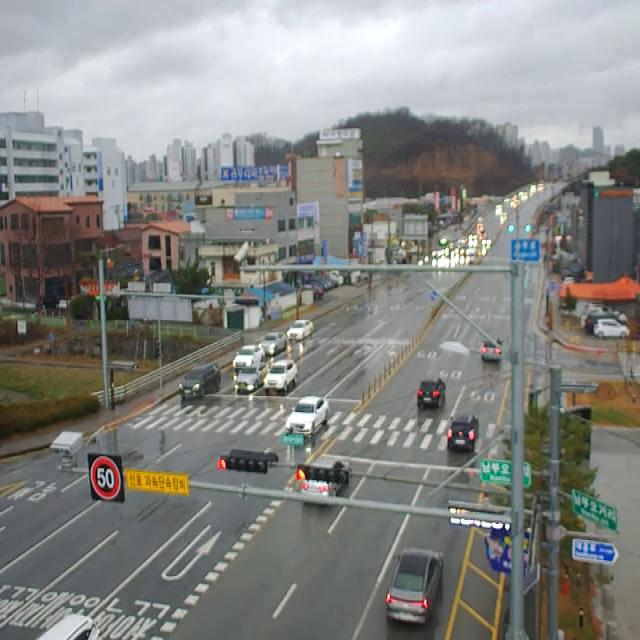Car: (386, 548, 444, 624), (300, 458, 352, 503), (35, 614, 102, 640), (286, 396, 328, 436), (180, 363, 220, 398), (448, 414, 480, 452), (581, 305, 629, 328), (265, 359, 298, 392), (585, 310, 627, 332), (236, 363, 268, 391), (417, 378, 446, 408), (594, 319, 630, 339), (258, 332, 288, 356), (233, 346, 265, 368), (481, 338, 504, 361), (287, 320, 313, 340)
